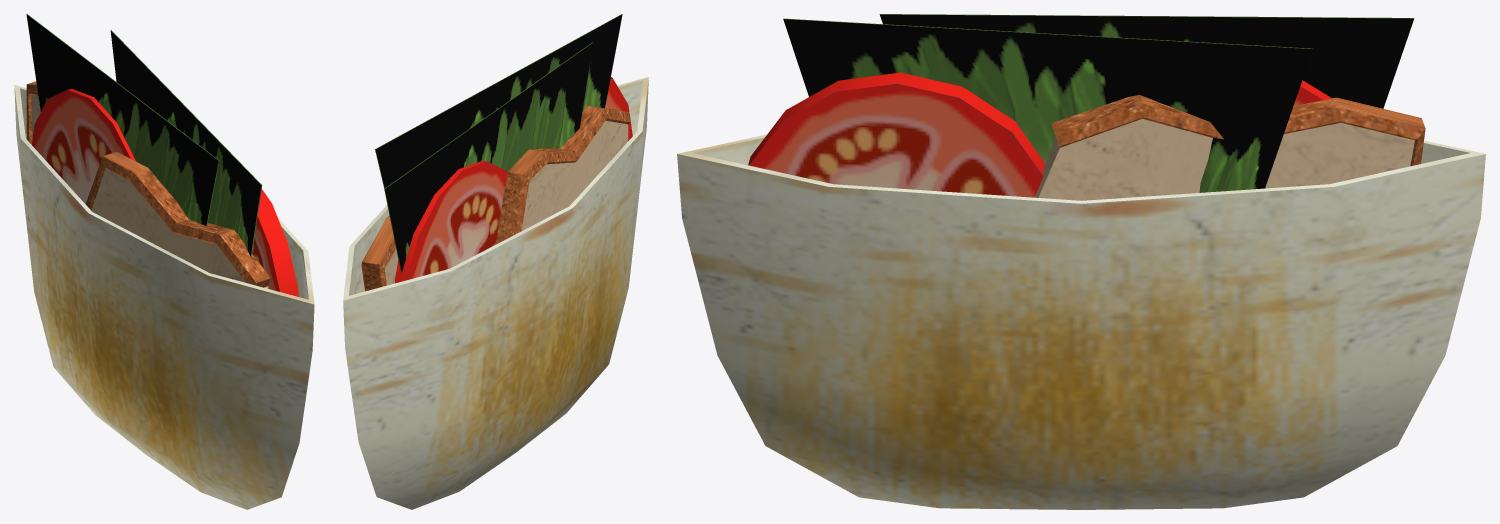
File: MeatFinishedProduct.fbx
3 renders of one model, left to right at view 1: azimuth 30°, elevation 25°; view 2: azimuth 150°, elevation 25°; view 3: azimuth 270°, elevation 25°, orthographic. The views are drawn at different scales.
Parts seen in each view (by area): view 1: BreadDough, Vegetable (×2), FilletA (×2), Tomato (×2); view 2: BreadDough, Vegetable (×2), FilletA (×2), Tomato (×2); view 3: BreadDough, Vegetable (×2), Tomato, FilletA.
Part boxes in pixels (x1,y1,x2,y2): BreadDough: [14, 85, 314, 509]; Vegetable (×2): [26, 14, 262, 256]; FilletA (×2): [26, 81, 270, 288]; Tomato (×2): [32, 88, 298, 296]; BreadDough: [343, 77, 648, 509]; Vegetable (×2): [375, 14, 622, 272]; FilletA (×2): [361, 105, 630, 291]; Tomato (×2): [395, 77, 632, 283]; BreadDough: [677, 134, 1485, 509]; Vegetable (×2): [783, 14, 1414, 192]; Tomato: [748, 72, 1045, 197]; FilletA: [1034, 95, 1425, 200].
Size of the model in its own units: 60.34 by 132 by 207.
